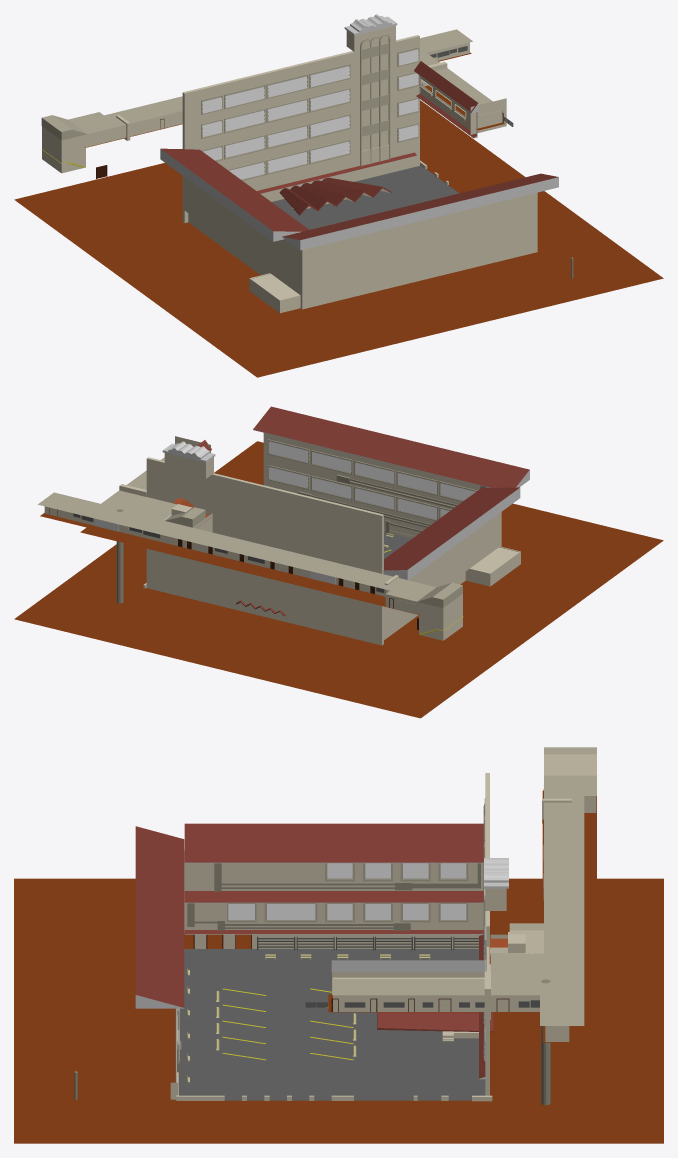
Rendered from 5th flr.fbx.
3 views of the same model, one above another, from view 1: azimuth 30°, elevation 25°; view 2: azimuth 150°, elevation 25°; view 3: azimuth 270°, elevation 25° (orthographic). The views are drawn at different scales.
Visible parts, largest first — view 1: 5th flr; view 2: 5th flr; view 3: 5th flr.
Boxes of the visible parts, x1,y1,x2,y2 form: 5th flr: [14, 14, 663, 377]; 5th flr: [14, 406, 663, 718]; 5th flr: [14, 747, 663, 1143].
Size of the model in its own units: 167 by 59.83 by 171.
